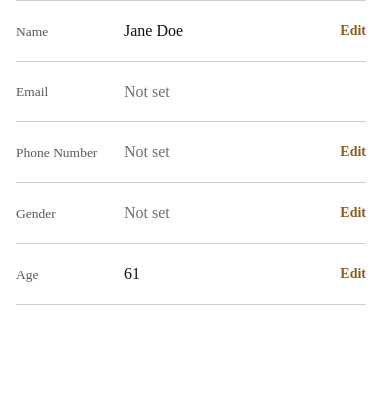
ProfileScreen › editing the age › seeds the field with the age on file
The width and height of the screenshot is (383, 403).
Click the button with test id "profile-edit-age" at (353, 274), box [340,252,366,296]
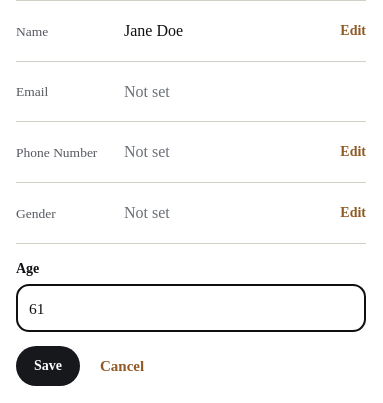
Check: the field with test id "profile-age-input" holds "61", box [16,284,366,332]
